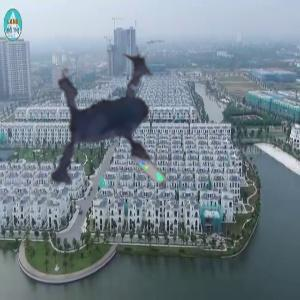drone: (5, 30, 246, 271)
